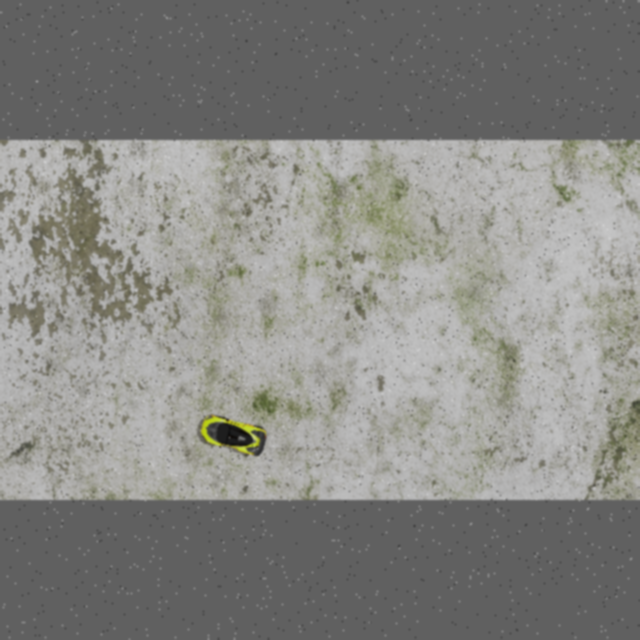car: (194, 411, 269, 460)
